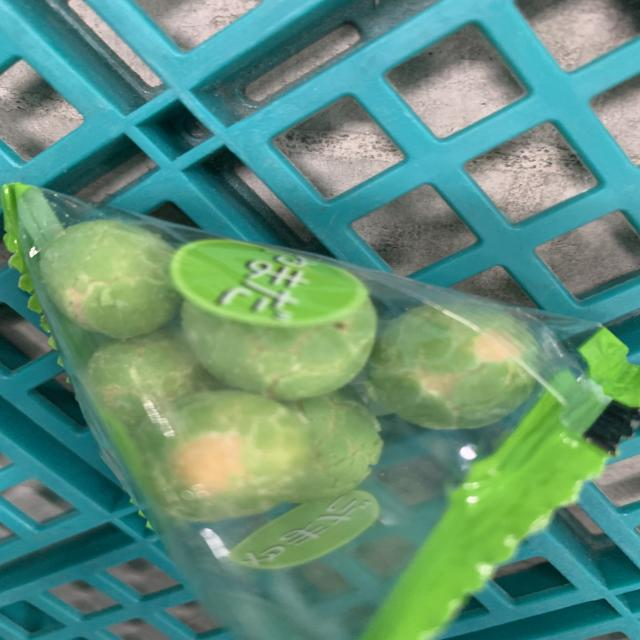object_name: (3, 184, 639, 638)
